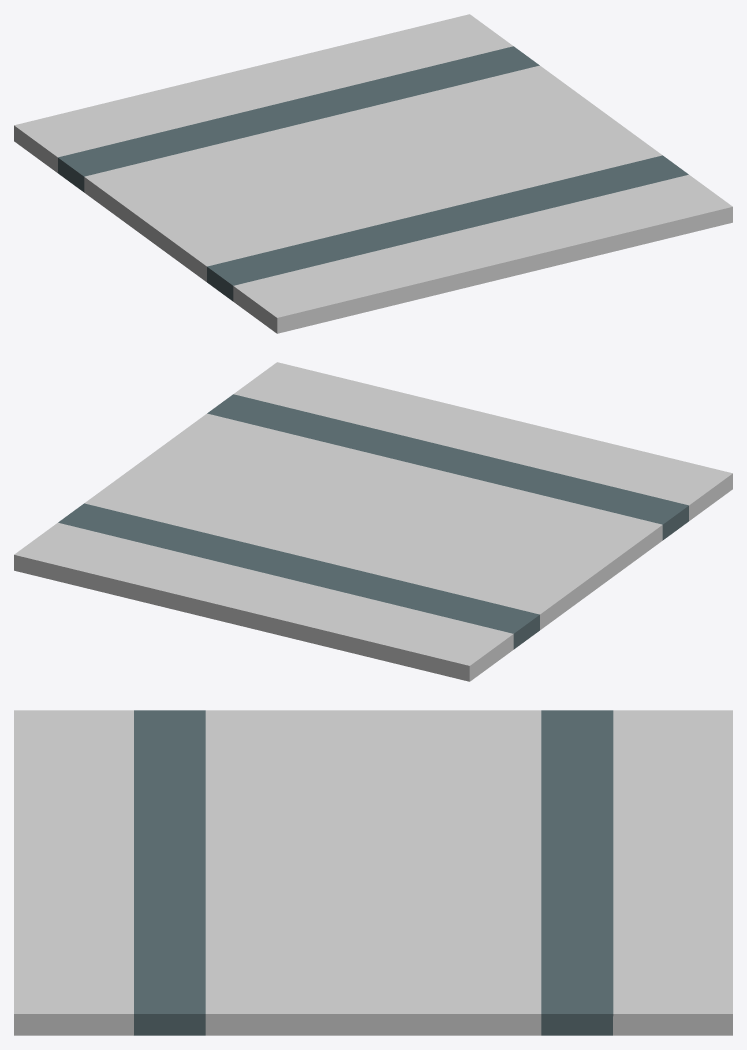
The model's file is scifi_floor_1.fbx.
3 views of the same model, one above another, from view 1: azimuth 30°, elevation 25°; view 2: azimuth 150°, elevation 25°; view 3: azimuth 270°, elevation 25° (orthographic). The views are drawn at different scales.
Parts seen in each view (by area): view 1: Cube.009; view 2: Cube.009; view 3: Cube.009.
Boxes of the visible parts, <box> form: Cube.009: <box>14,14,732,333</box>; Cube.009: <box>14,362,732,681</box>; Cube.009: <box>14,710,732,1035</box>.
Bounding box in the file's own units: 3 × 0.1 × 3.
